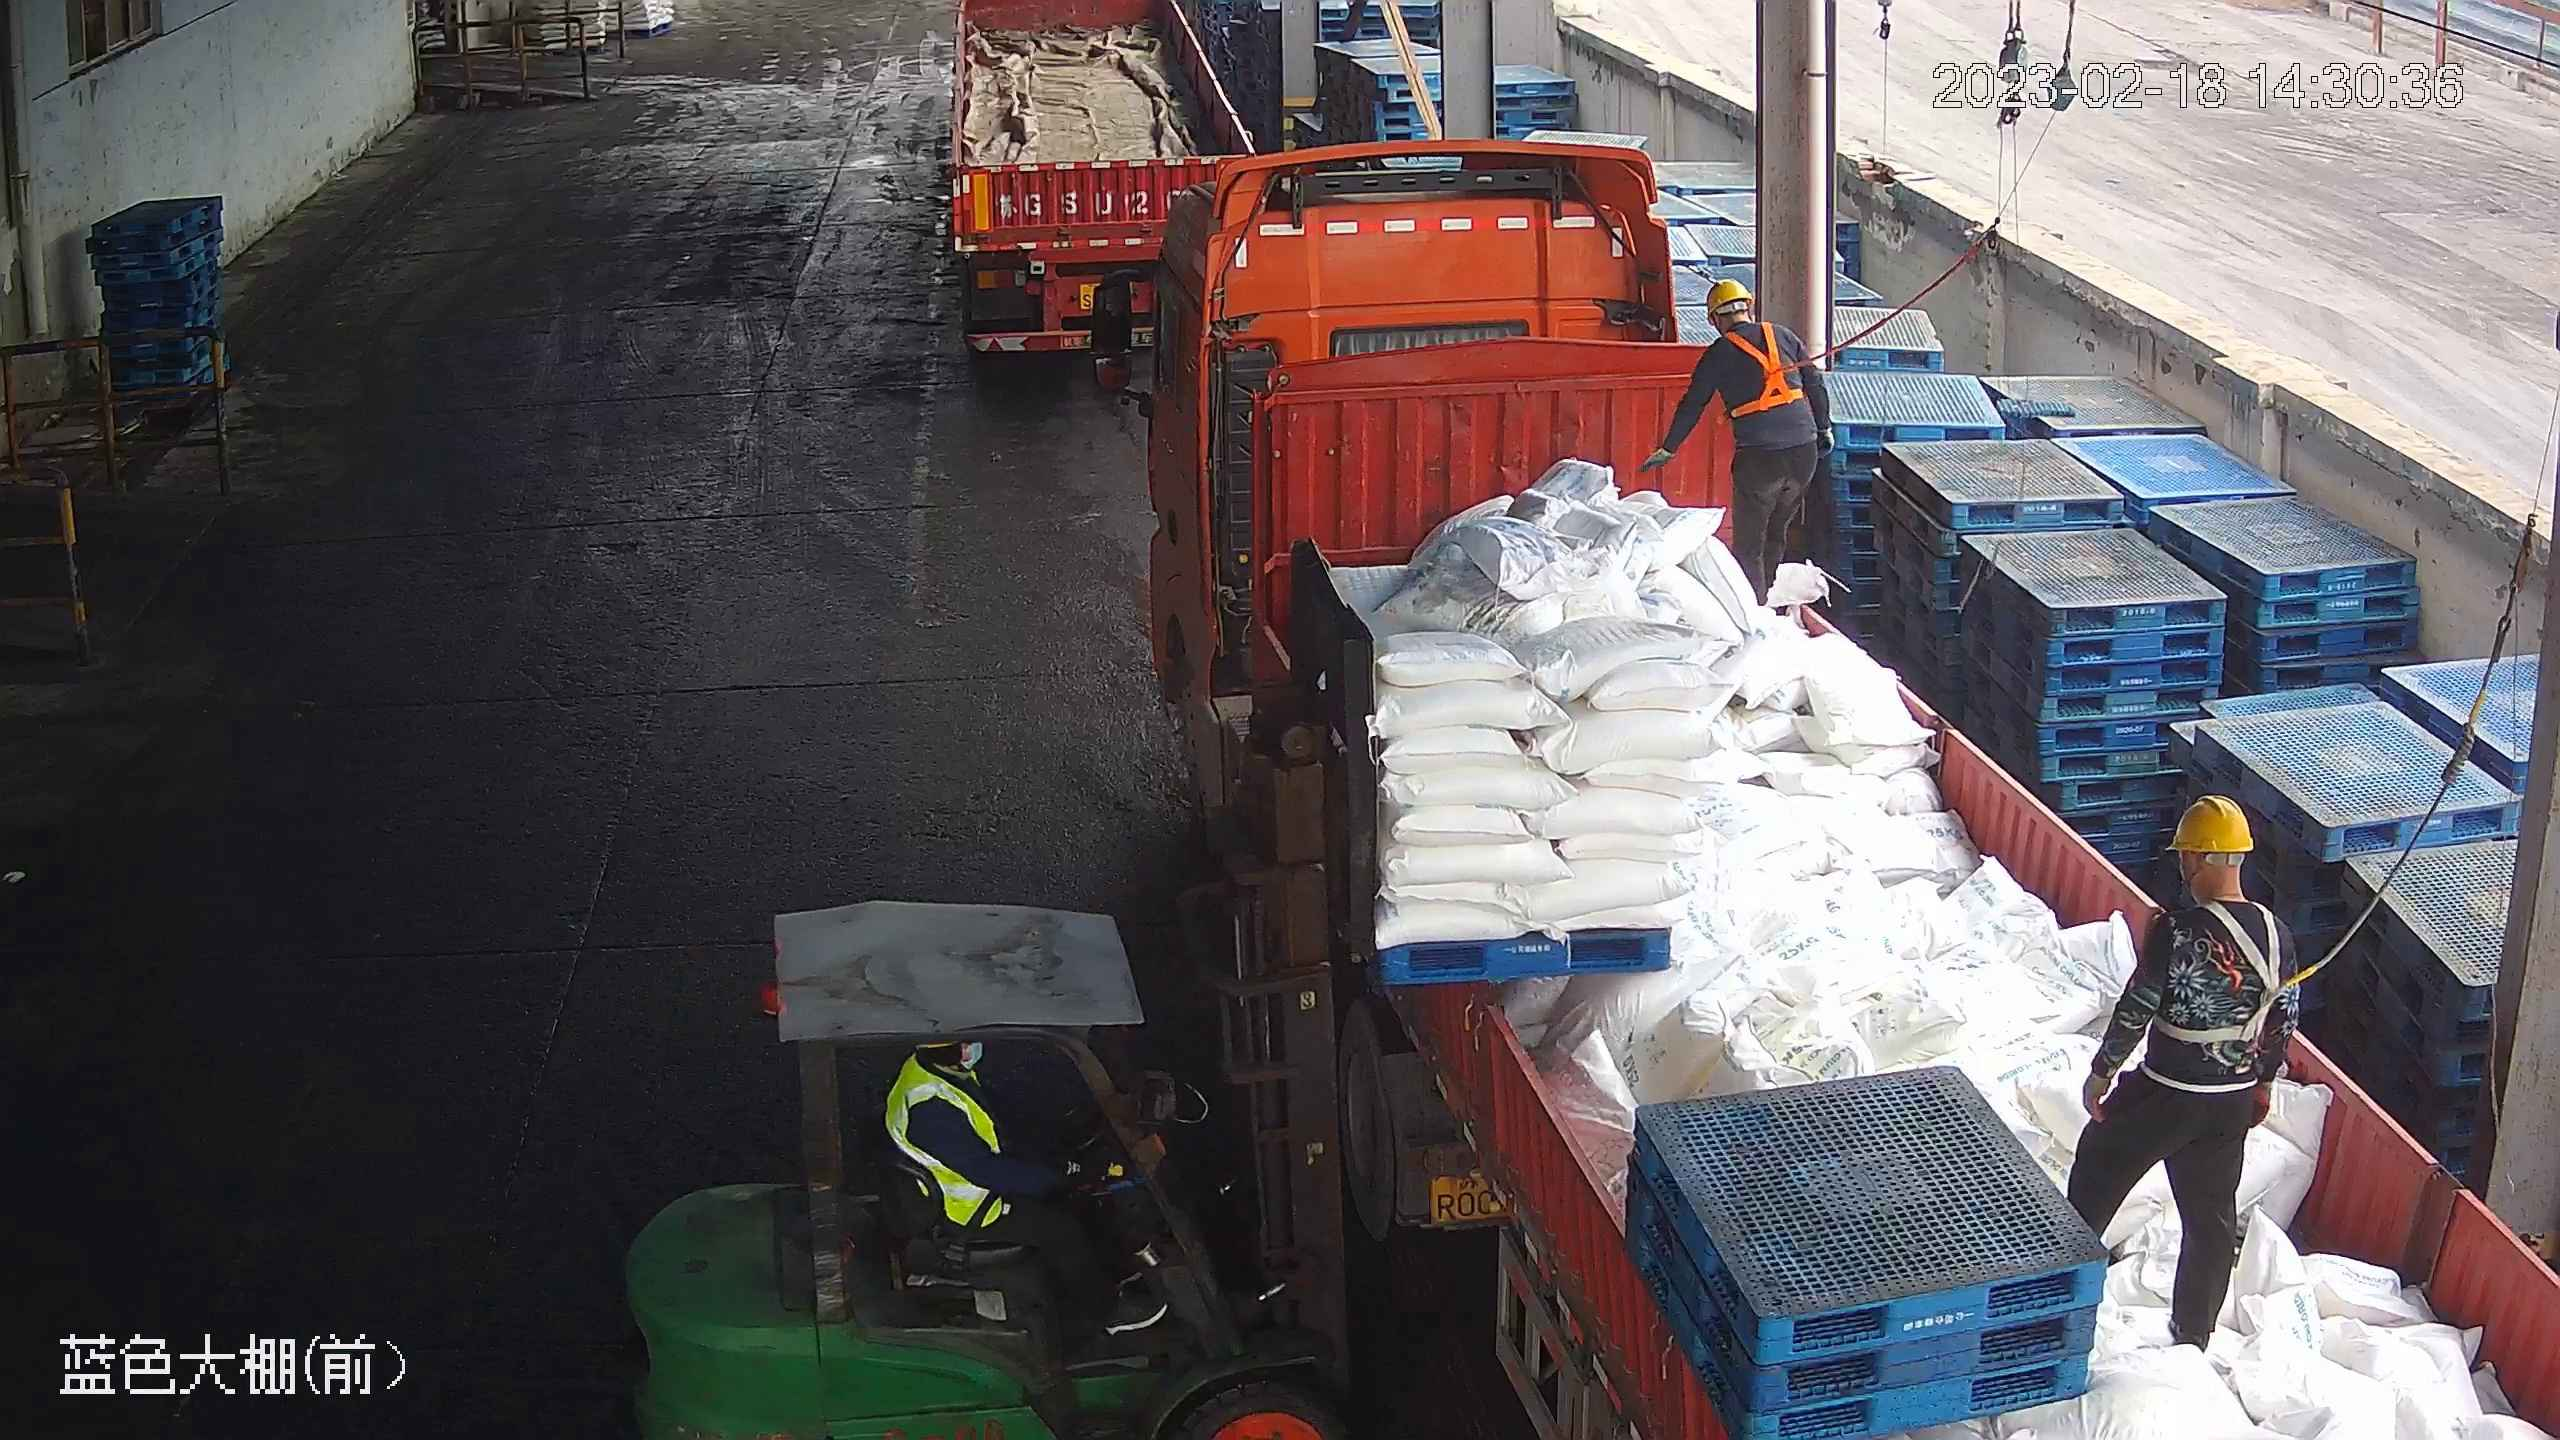belt: (2166, 893, 2296, 1062), (1717, 322, 1810, 415)
head: (2143, 790, 2286, 969), (1692, 278, 1809, 380)
helmet: (2165, 790, 2256, 856), (1703, 276, 1750, 312)
people: (2060, 786, 2296, 1348), (886, 1032, 1160, 1335), (1649, 278, 1835, 614)
truck: (1093, 136, 2547, 1438), (936, 1, 1268, 366)
